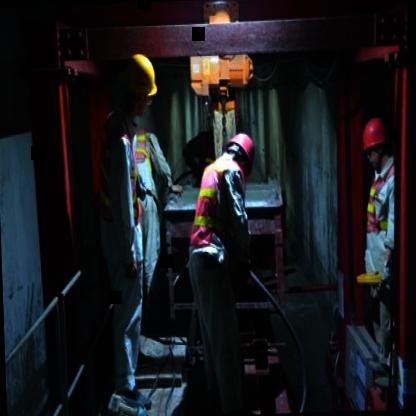helmet: (115, 51, 162, 119), (359, 114, 393, 174), (225, 132, 258, 173)
